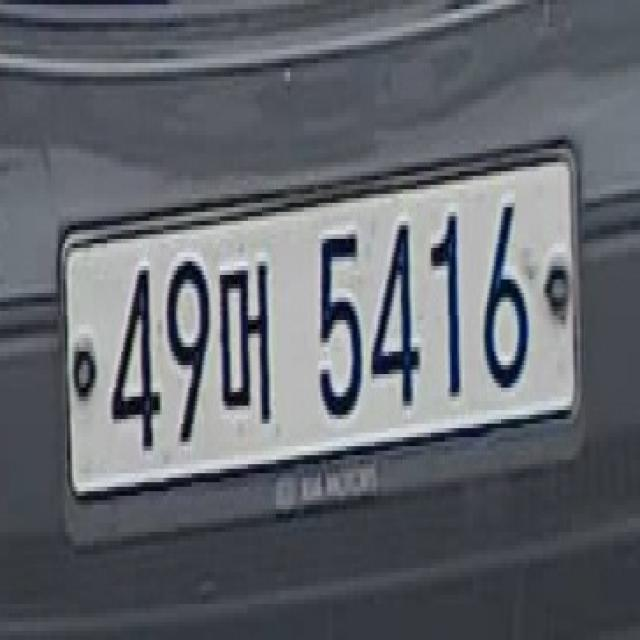1: (430, 206, 470, 433)
4: (106, 254, 161, 472), (370, 207, 424, 417)
5: (315, 221, 367, 427)
6: (477, 190, 536, 406)
9: (165, 238, 211, 464)
license_plate: (59, 136, 581, 534)
meo: (220, 245, 274, 442)
